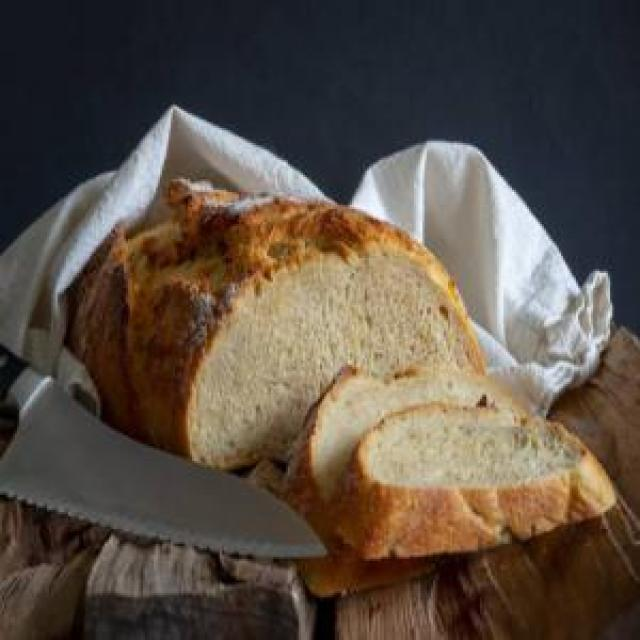knife: (0, 343, 329, 556)
